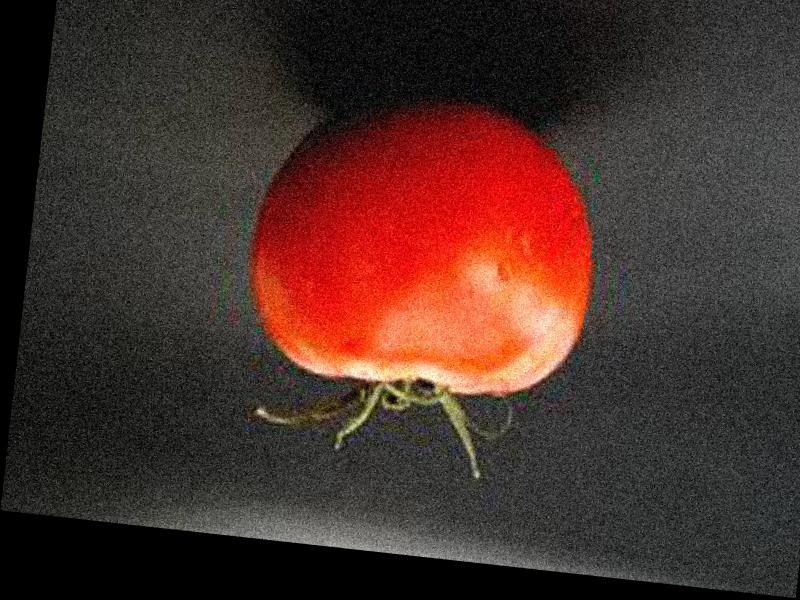Tomato: (242, 84, 611, 405)
